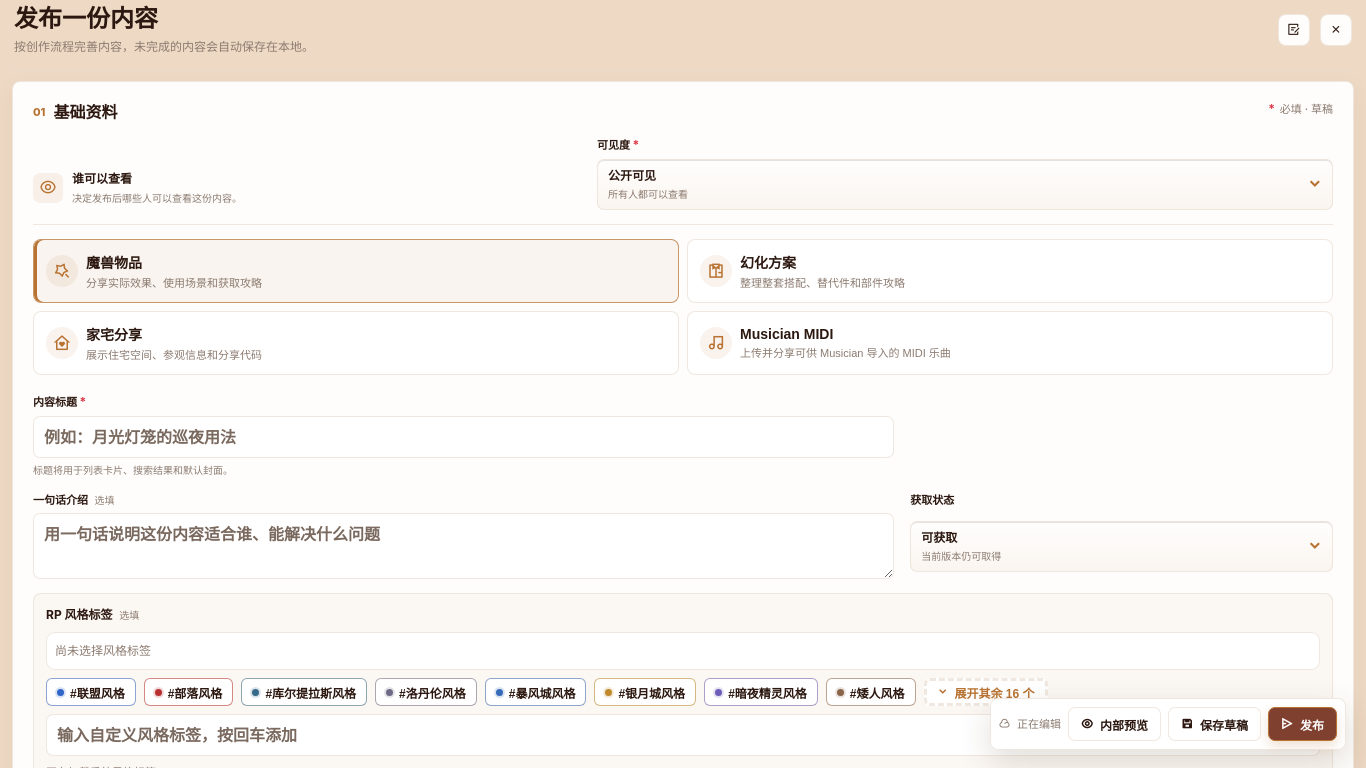
Scenario: RPDBEditor › opens the visible draft box and keeps saved drafts separate from formal works
Type "未发布的独立草稿" into the field with id "rpdb-title" at (464,437), box [33,416,894,458]
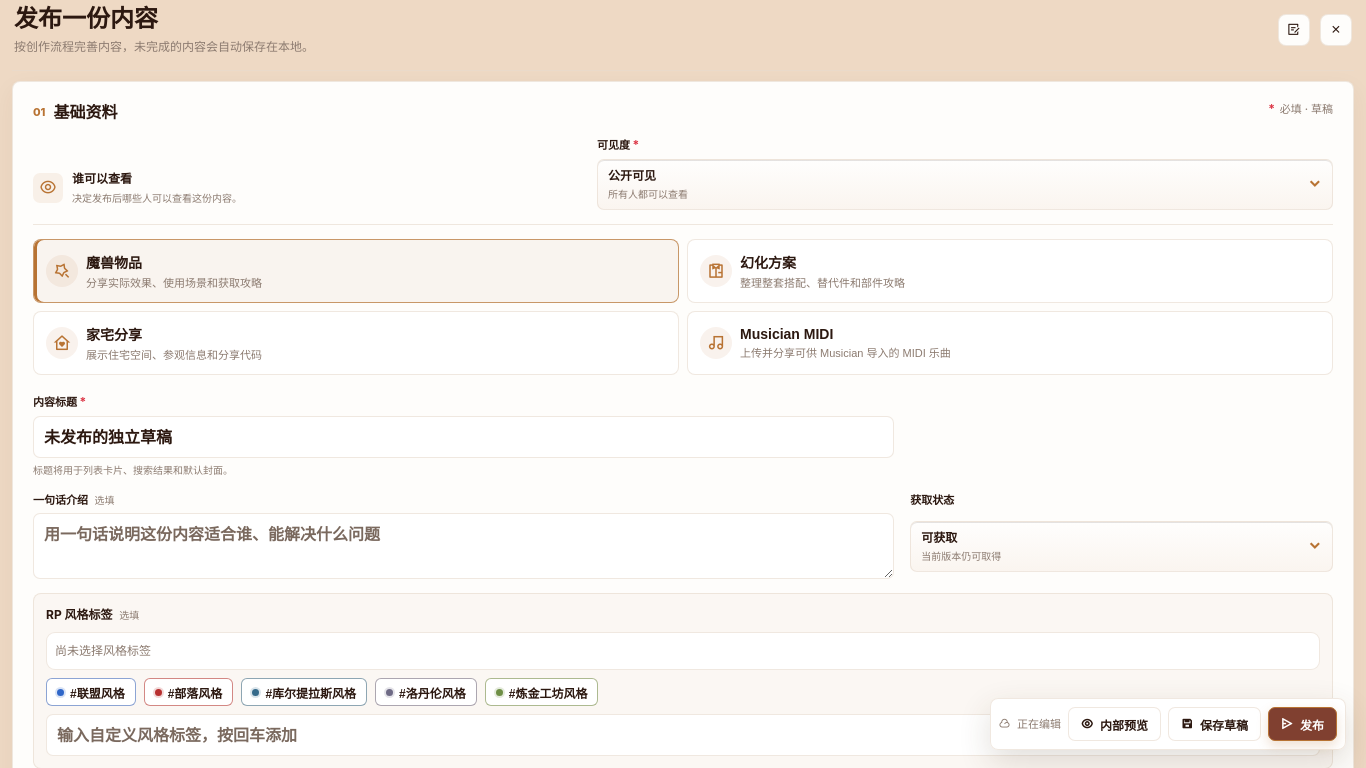
Click the button with test id "save-rpdb-draft" at (1214,724), box [1168,707,1261,741]
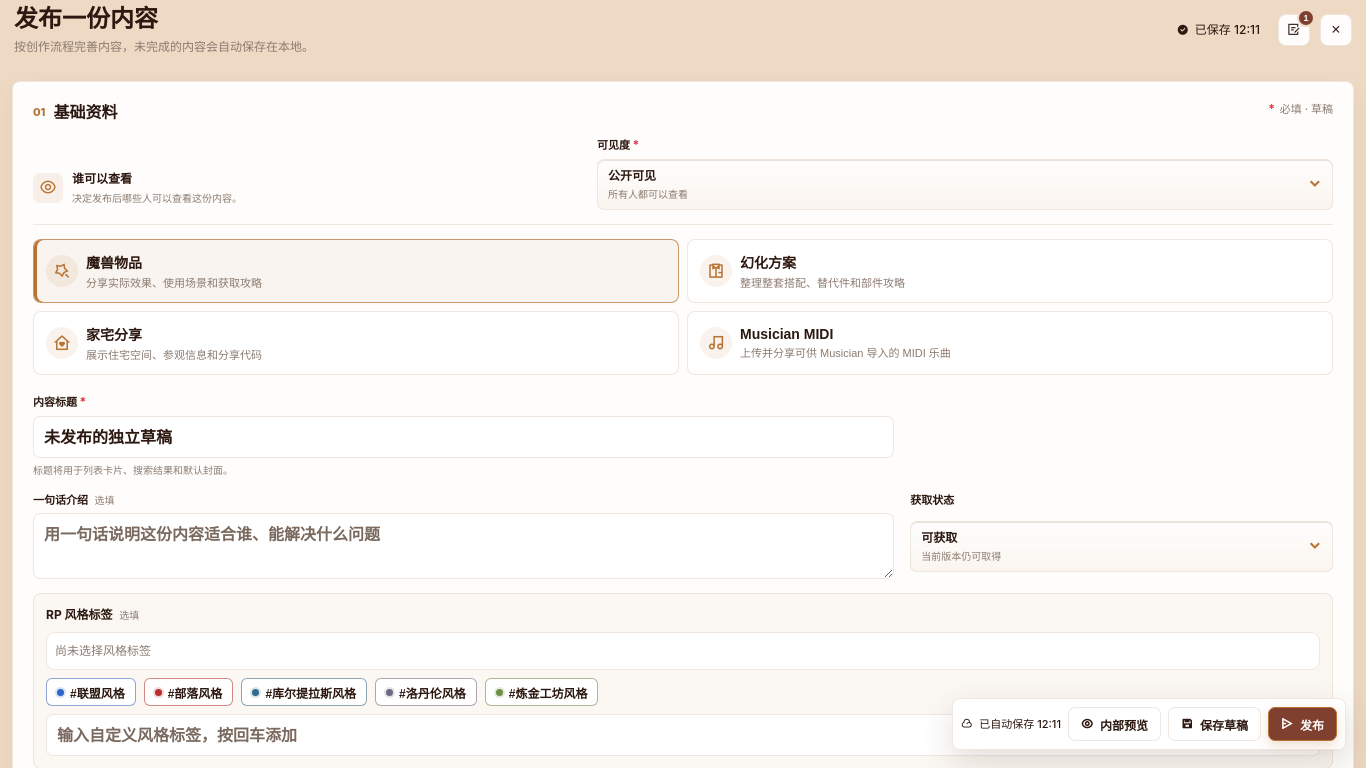
Click the button with test id "rpdb-draft-box-button" at (1294,30), box [1278,14,1310,46]
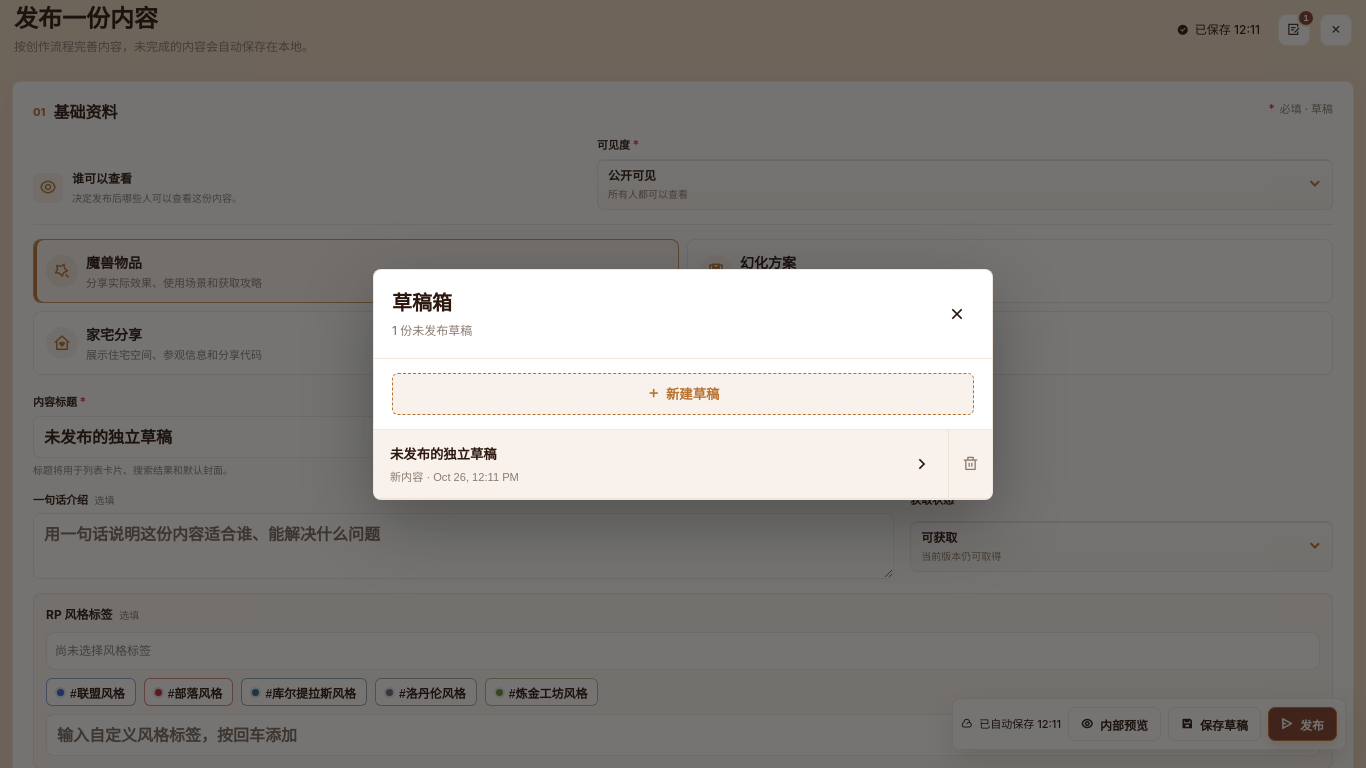
Now the element with test id "rpdb-draft-box" is shown
Now the element with test id "rpdb-draft-box" shows "未发布的独立草稿", box [374,430,948,498]
Now the element with test id "rpdb-draft-box" shows "新内容", box [374,430,948,498]
